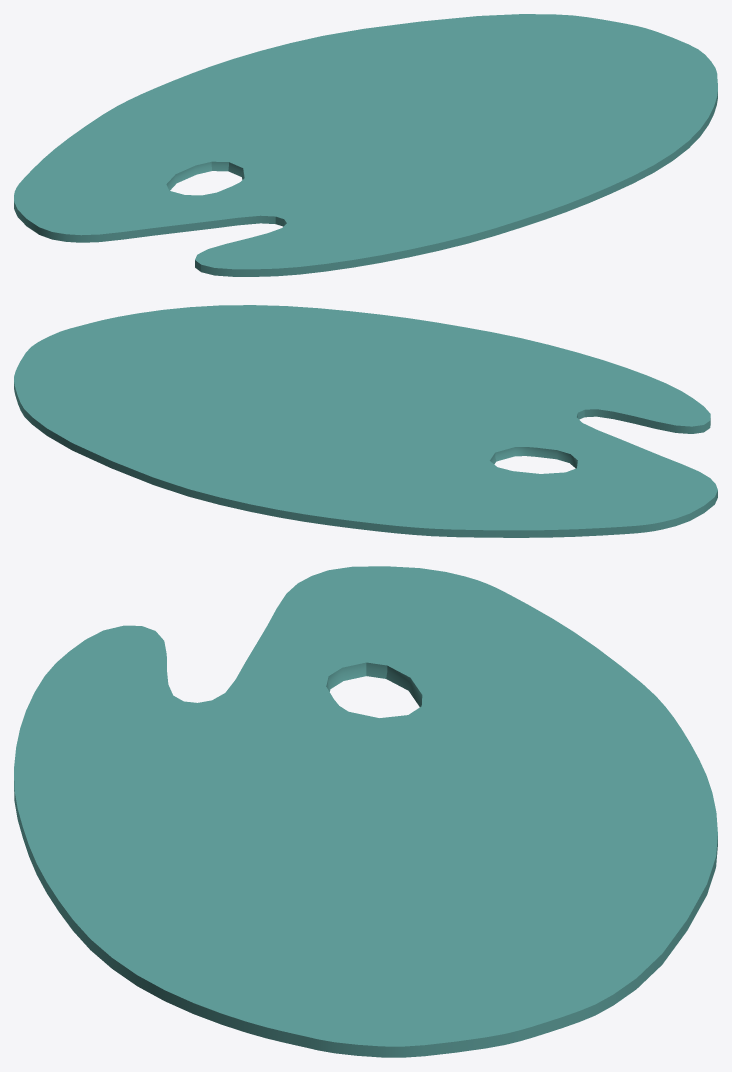
File: Painting_Palette.fbx
3 views of the same model, one above another, from view 1: azimuth 30°, elevation 25°; view 2: azimuth 150°, elevation 25°; view 3: azimuth 270°, elevation 25° (orthographic). The views are drawn at different scales.
Visible parts, largest first — view 1: polySurface1; view 2: polySurface1; view 3: polySurface1.
Boxes of the visible parts, box(x1,y1,x2,y2) form: polySurface1: box(14, 14, 717, 276); polySurface1: box(14, 305, 717, 537); polySurface1: box(14, 566, 717, 1057).
Size of the model in its own units: 5.58 by 0.0689 by 3.45.
